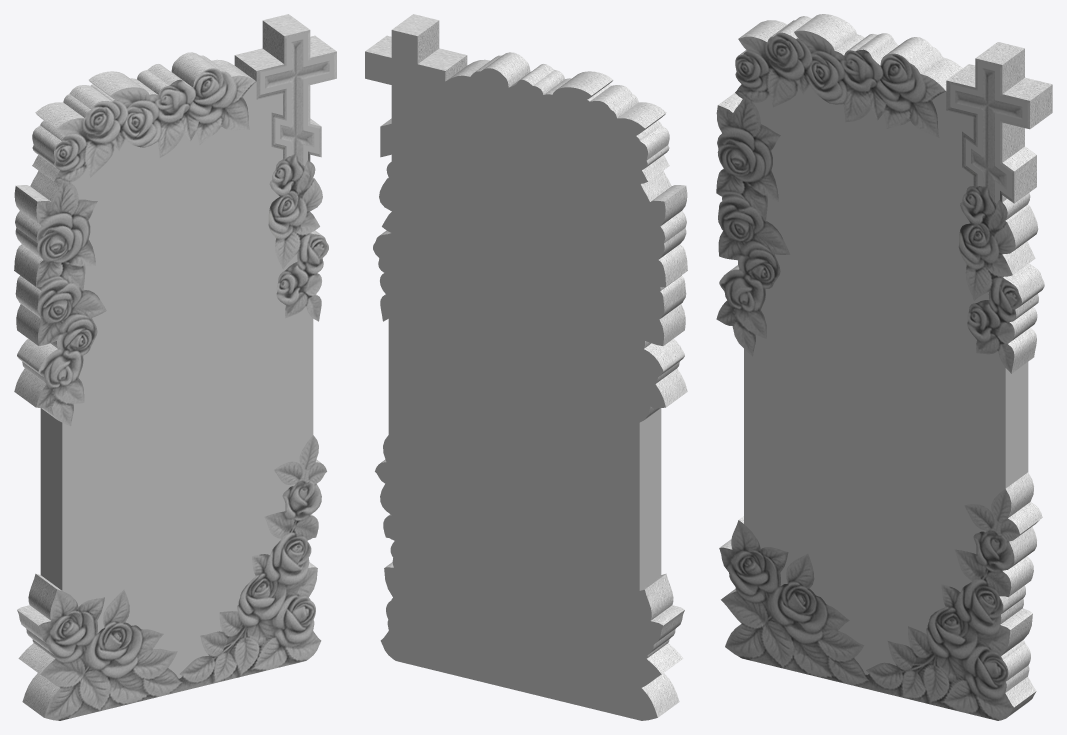
File: cn0e4b2daa70_tkf.glb
The picture shows the model from 3 angles, left to right: view 1: azimuth 30°, elevation 25°; view 2: azimuth 150°, elevation 25°; view 3: azimuth 330°, elevation 25°; orthographic projection. The views are drawn at different scales.
Parts seen in each view (by area): view 1: Pam-d03-050, Pam-d03-050_2_notexture; view 2: Pam-d03-050, Pam-d03-050_2_notexture; view 3: Pam-d03-050, Pam-d03-050_2_notexture.
Part boxes in pixels (<box>): Pam-d03-050: <box>40,33,334,678</box>; Pam-d03-050_2_notexture: <box>14,14,336,720</box>; Pam-d03-050: <box>365,30,665,720</box>; Pam-d03-050_2_notexture: <box>365,14,687,717</box>; Pam-d03-050: <box>744,61,1028,674</box>; Pam-d03-050_2_notexture: <box>716,14,1052,720</box>.
Bounding box in the file's own units: 0.4 × 0.8 × 0.05.
1 material, 1 textured.
